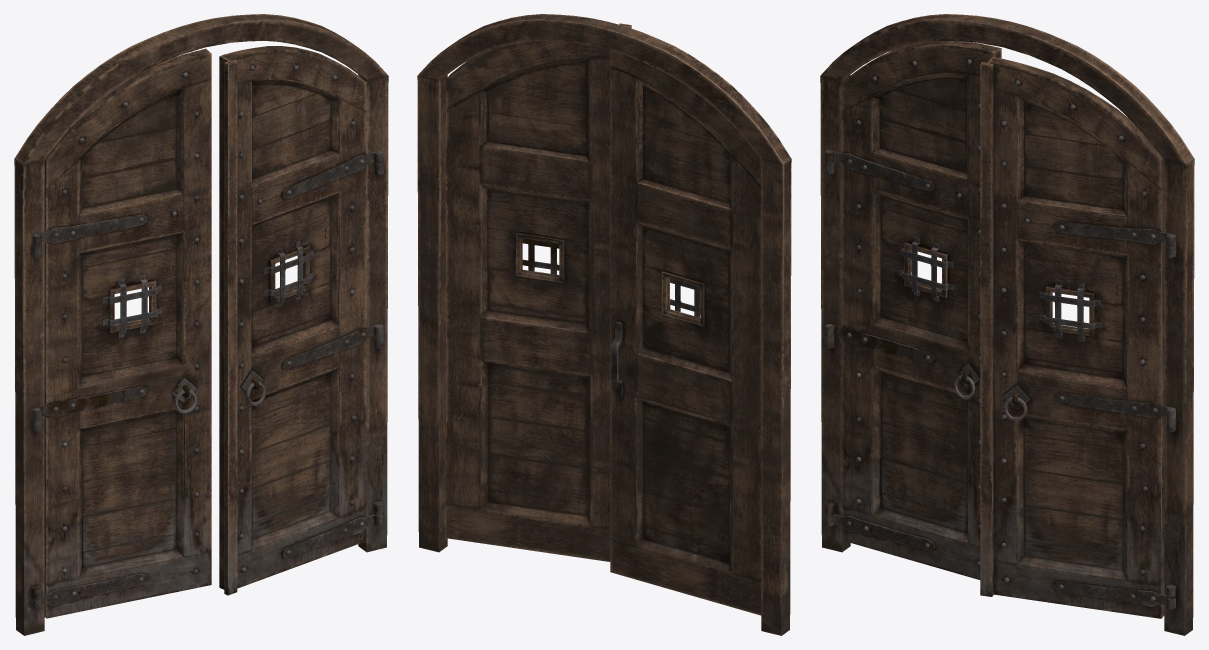
Rendered from door-castle.3138c5cf.glb.
3 renders of one model, left to right at view 1: azimuth 30°, elevation 25°; view 2: azimuth 150°, elevation 25°; view 3: azimuth 330°, elevation 25°, orthographic.
Parts seen in each view (by area): view 1: model; view 2: model; view 3: model.
Boxes of the visible parts, x1,y1,x2,y2 form: model: (14,14,388,635); model: (417,14,791,635); model: (820,14,1194,635).
Bounding box in the file's own units: 2.01 × 2.96 × 0.2963.
1 material, 1 textured.
